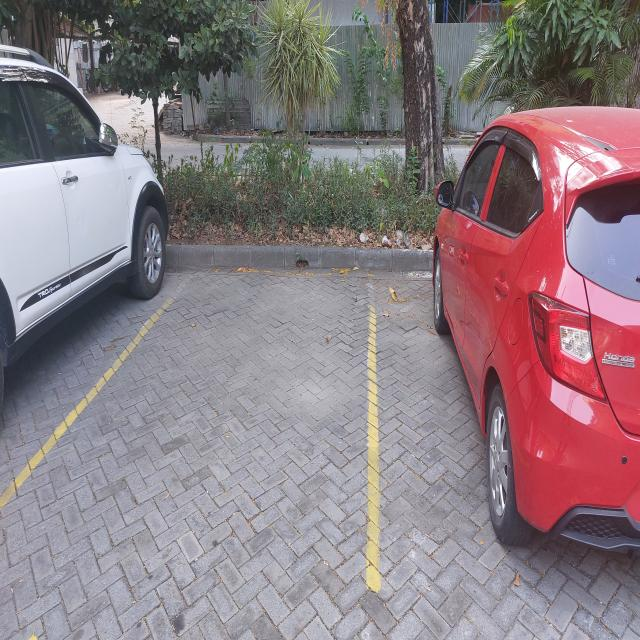occupied: (369, 105, 640, 589), (0, 57, 192, 505)
